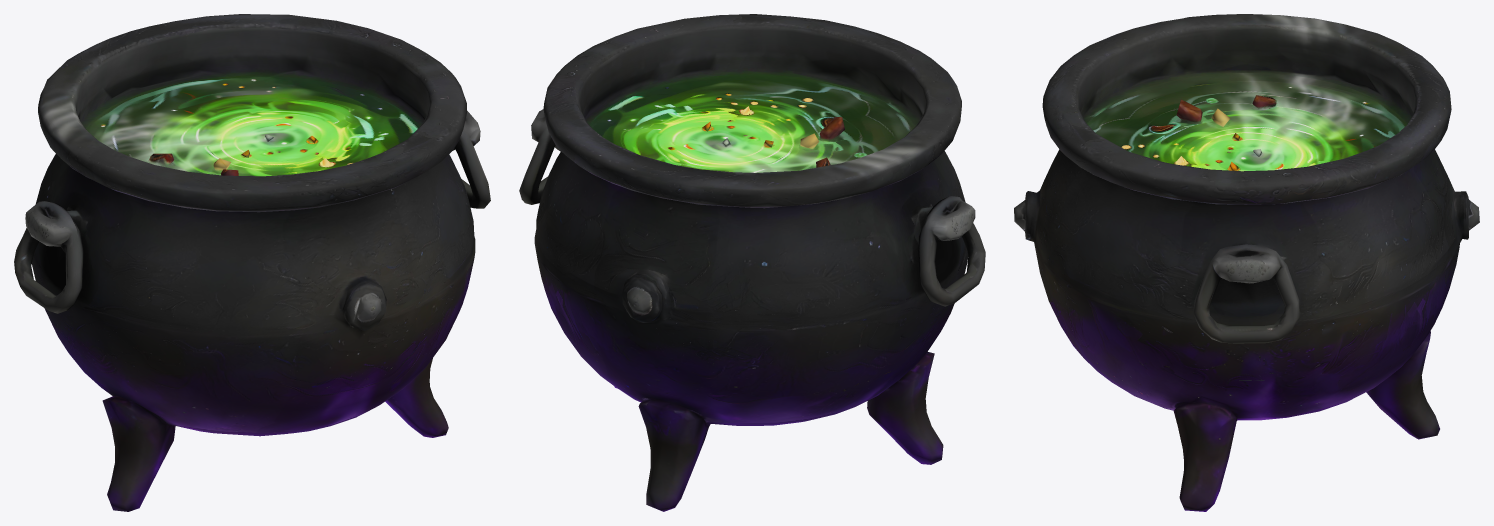
Rendered from witch+cauldron+3d+model.obj.
3 views of the same model, side by side, from view 1: azimuth 30°, elevation 25°; view 2: azimuth 150°, elevation 25°; view 3: azimuth 270°, elevation 25° (orthographic). The views are drawn at different scales.
Visible parts, largest first — view 1: tripo_node_e801a40c-e301-4ee7-be1d-4797e8289a0d; view 2: tripo_node_e801a40c-e301-4ee7-be1d-4797e8289a0d; view 3: tripo_node_e801a40c-e301-4ee7-be1d-4797e8289a0d.
Part boxes in pixels (bbox=[...]): tripo_node_e801a40c-e301-4ee7-be1d-4797e8289a0d: bbox=[14, 14, 490, 511]; tripo_node_e801a40c-e301-4ee7-be1d-4797e8289a0d: bbox=[519, 14, 985, 511]; tripo_node_e801a40c-e301-4ee7-be1d-4797e8289a0d: bbox=[1014, 14, 1479, 511].
Size of the model in its own units: 0.9998 by 0.7685 by 0.9556.
1 material, 1 textured.
